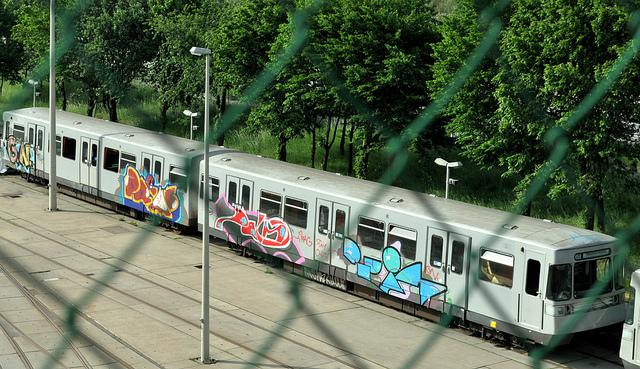Train: (0, 106, 640, 366)
